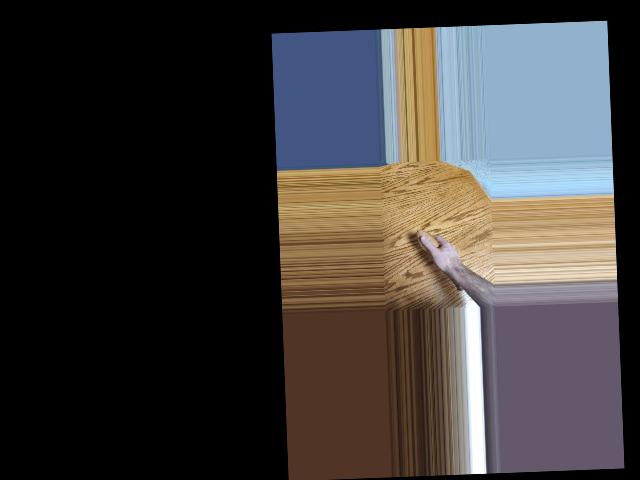sweet_potato: (415, 227, 468, 295)
